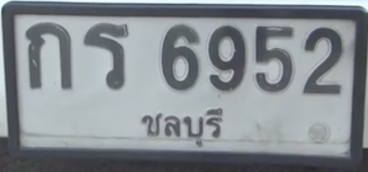txt01: (23, 20, 74, 91)
txt30: (81, 21, 129, 92)
